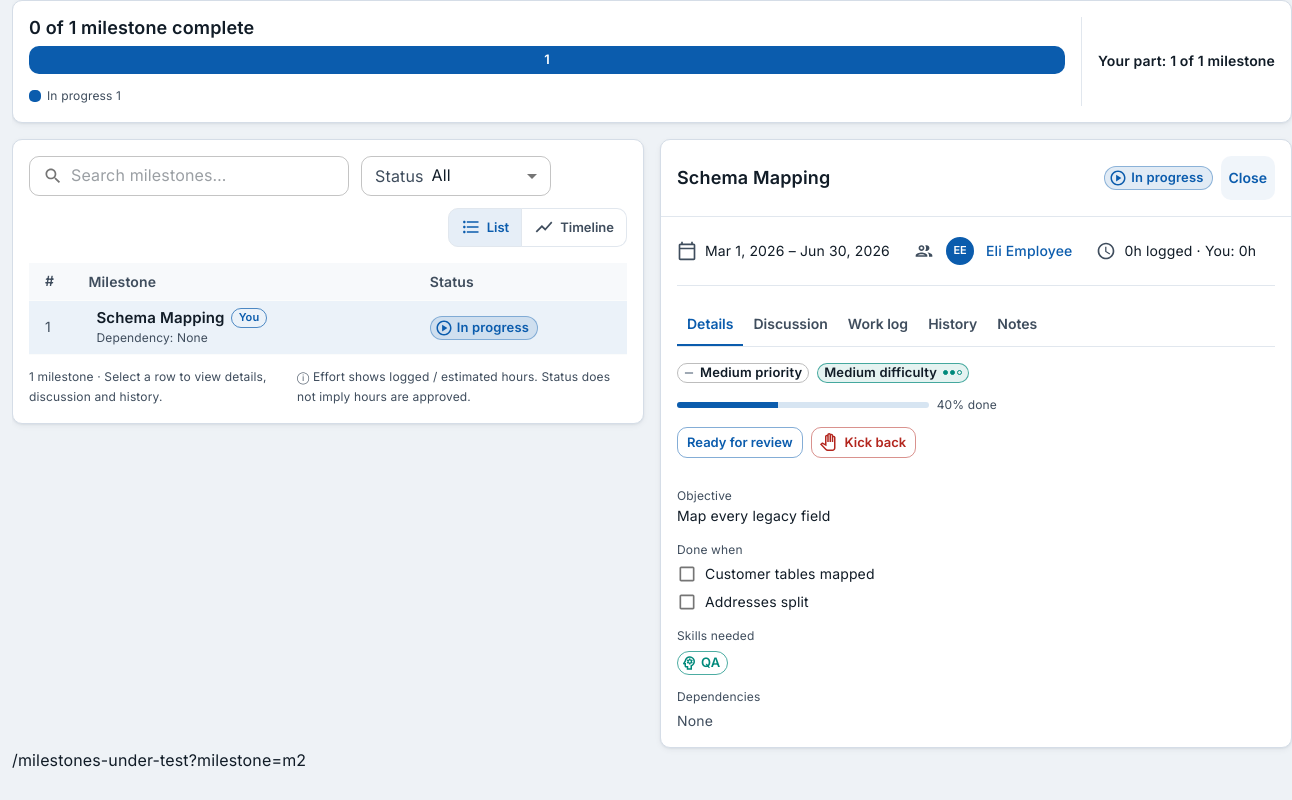
Test: milestone workflow › an assignee posts a progress update with a percent and sees it on the timeline
Click the tab "Work log" at [878, 324], box [838,302,918,346]
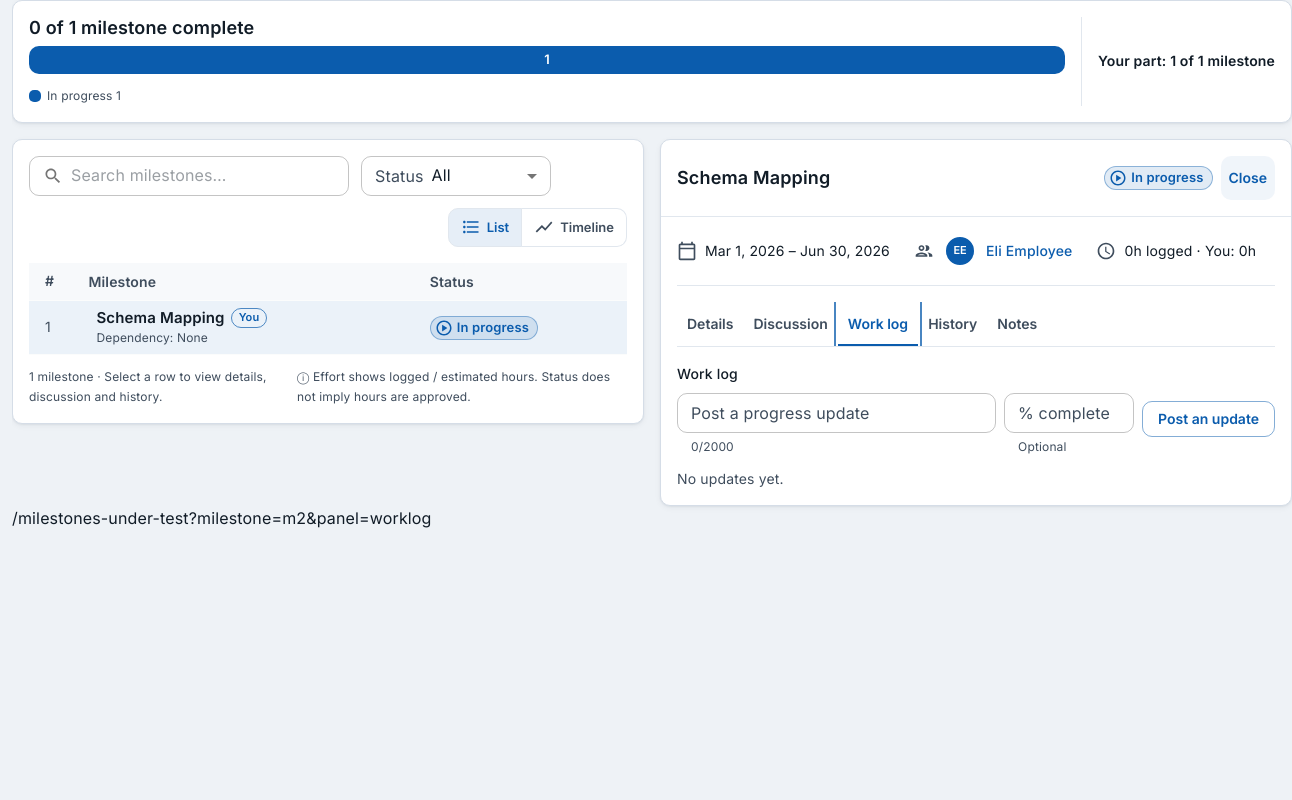
Result: the text "No updates yet." is shown at [677,470,784,487]
Type "150" into the field named "percent complete" at [1069, 413], box [1004,393,1134,433]
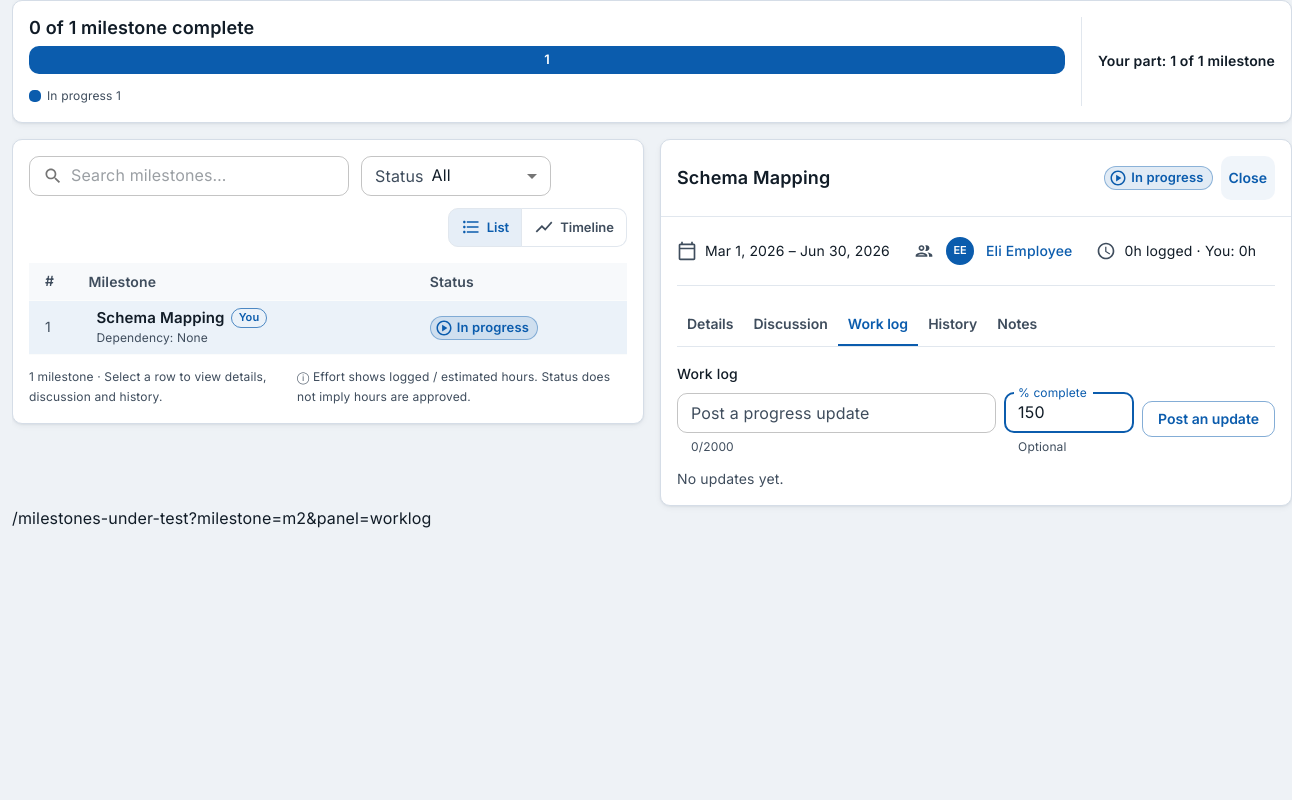
Type "Tables done" into the text box labelled "Post a progress update" at [837, 413], box [691,401,982,424]
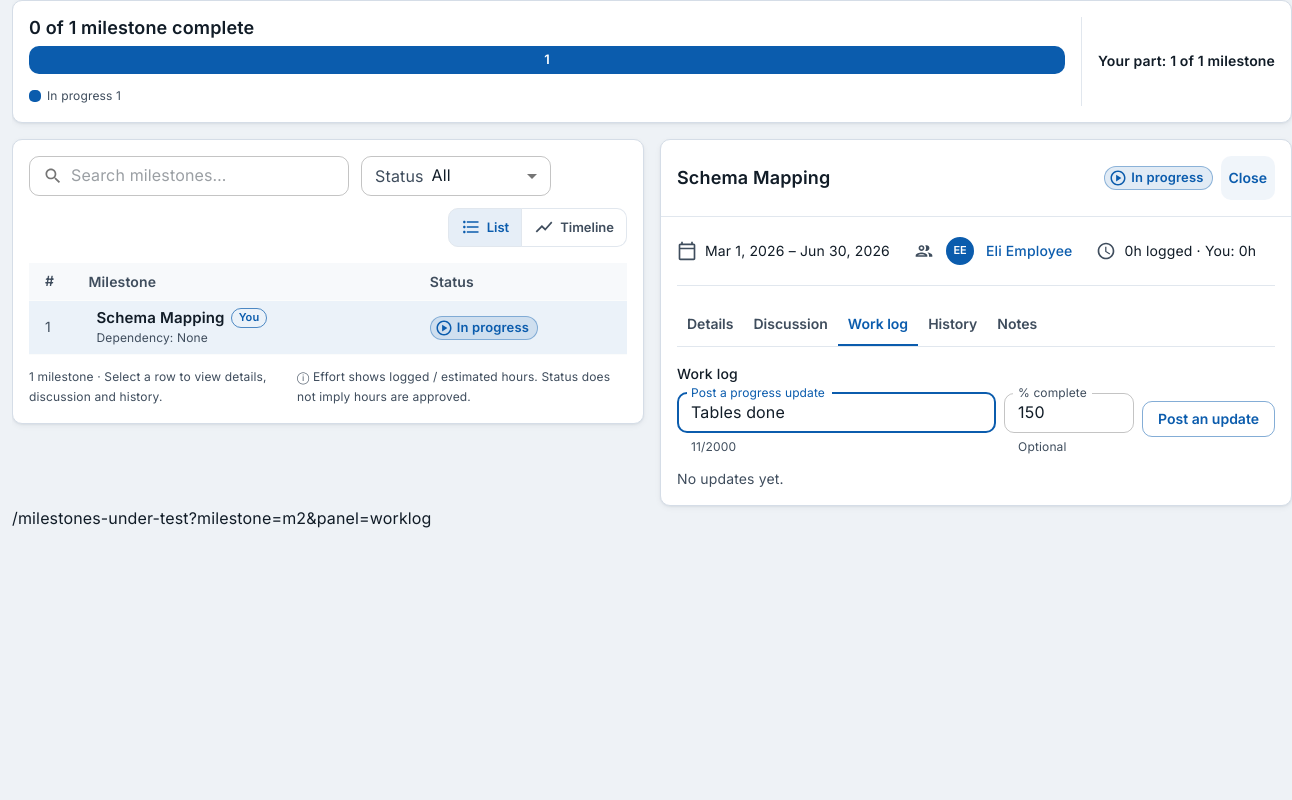
Click the button "Post an update" at [1209, 419], box [1142,401,1275,437]
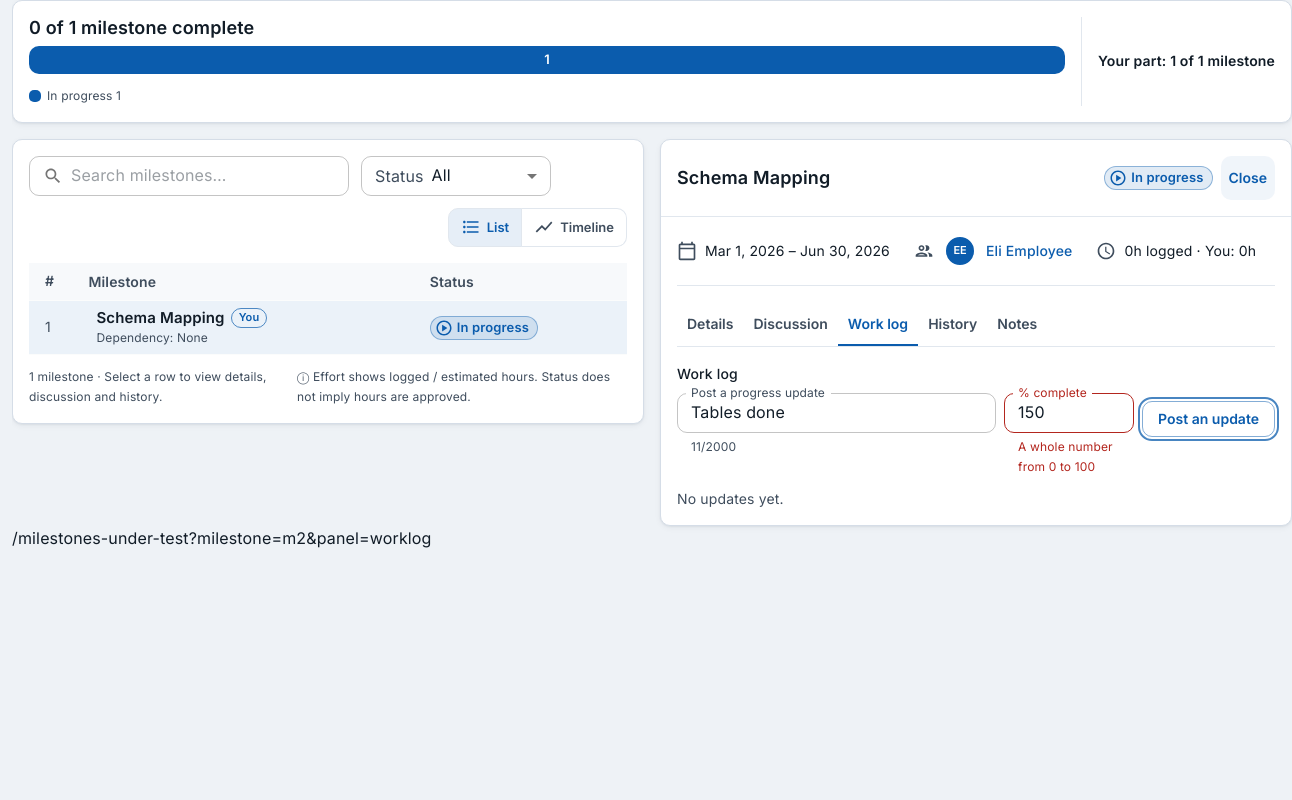
Result: the text "A whole number from 0 to 100" is shown at [1018,437,1120,477]
Replace the text in the field named "percent complete" with "55" at [1069, 413], box [1004,393,1134,433]
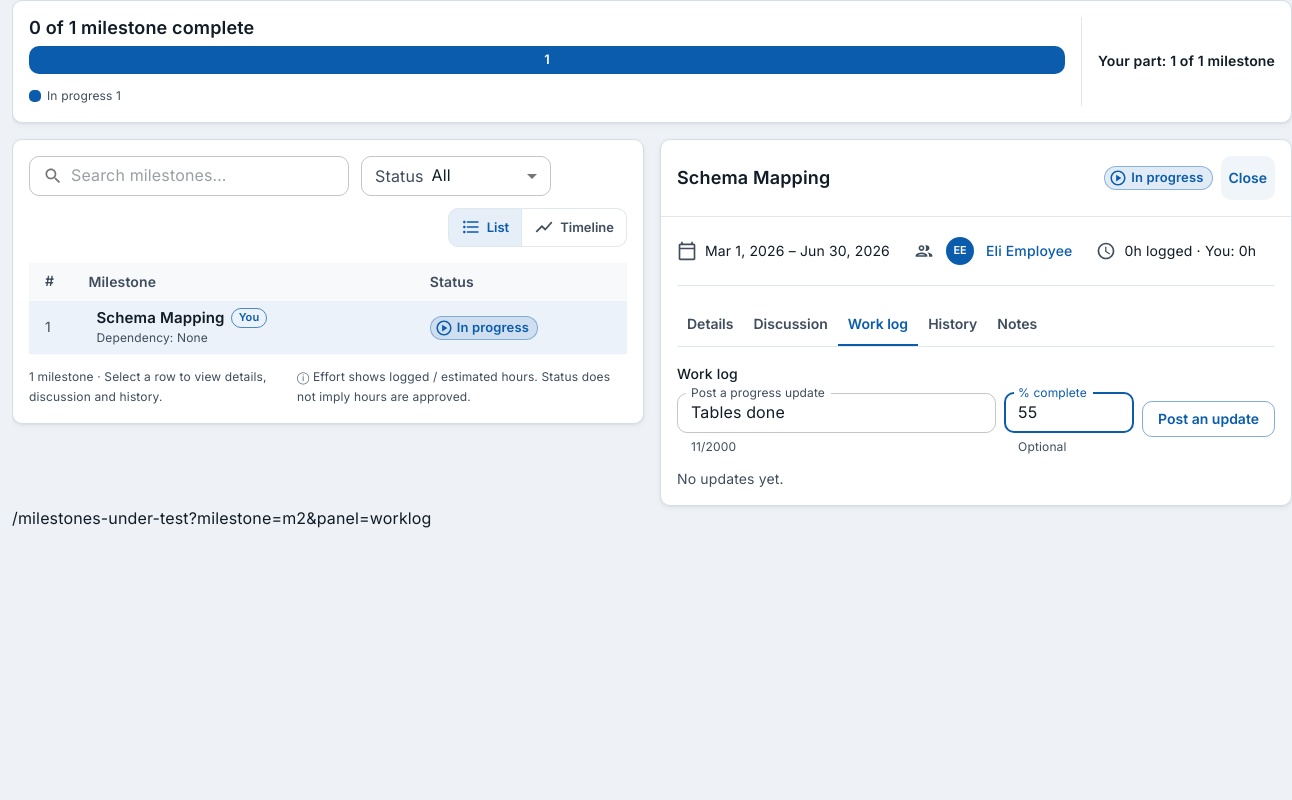
Click the button "Post an update" at [1209, 419], box [1142,401,1275,437]
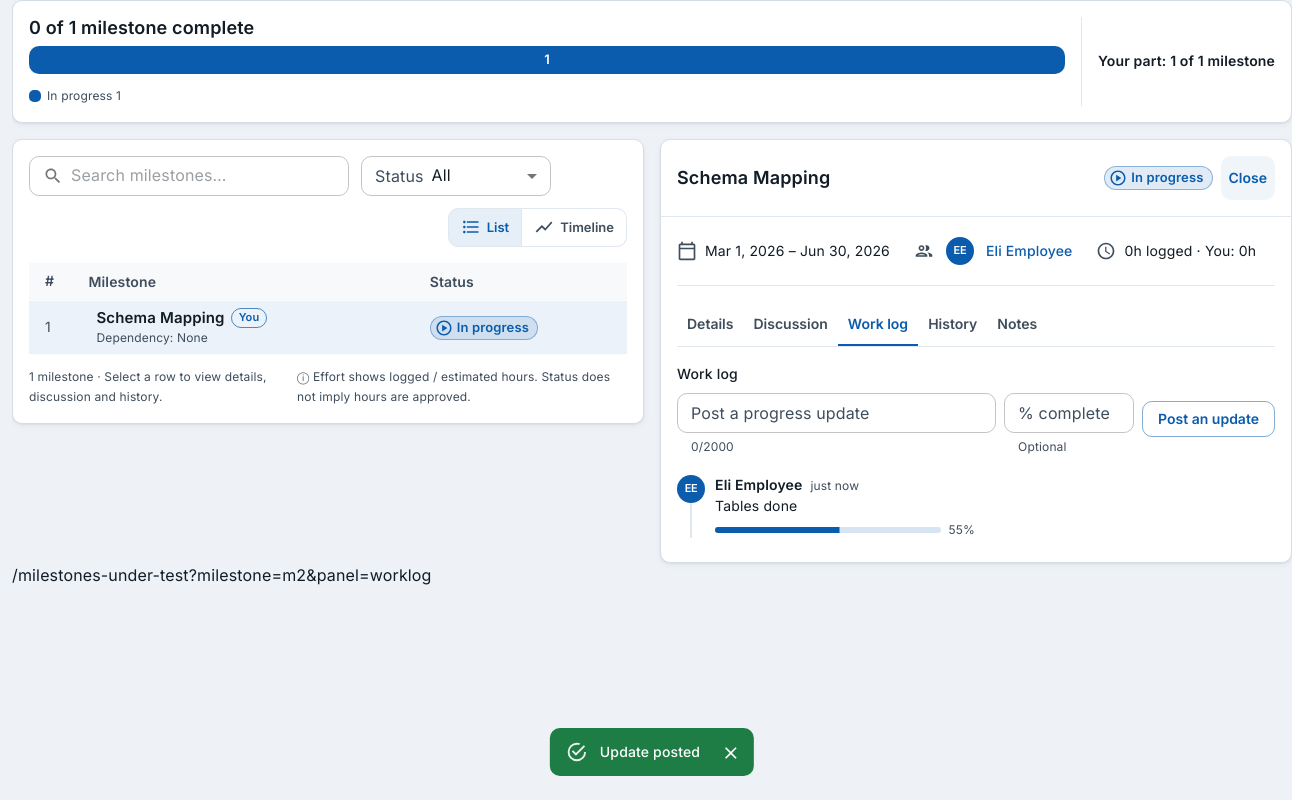
Result: the text "Tables done" is shown at [715,497,797,514]
Result: the progress indicator named "55% complete" is shown at [715,527,940,533]
